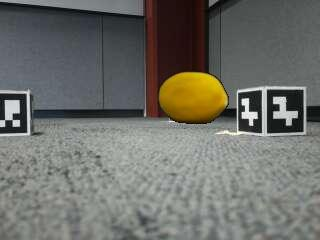lemon: (160, 73, 229, 124)
